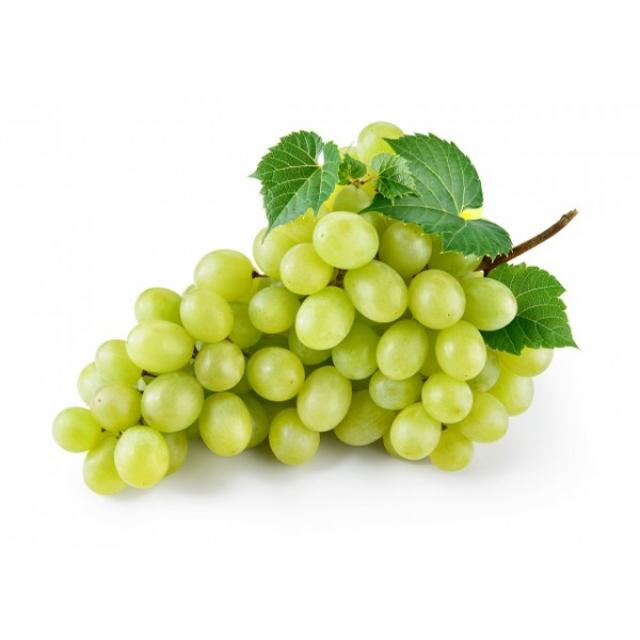grape: (51, 118, 585, 497)
